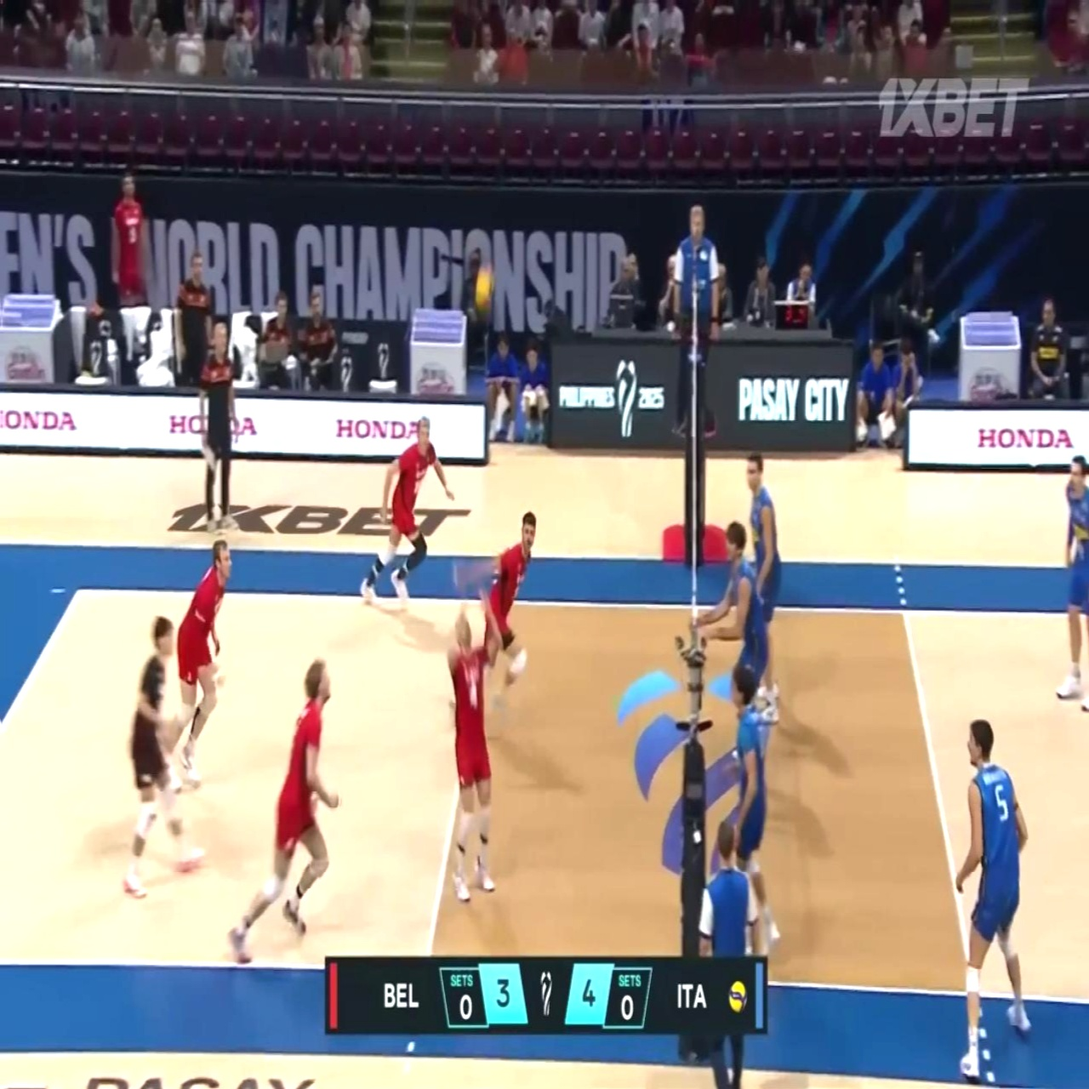ball: (473, 262, 494, 308)
